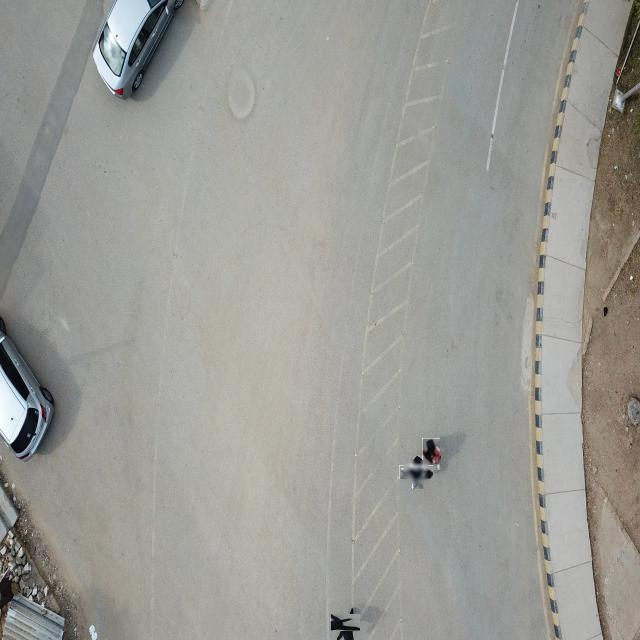Manusia: (422, 438, 441, 471), (404, 460, 429, 485), (334, 611, 358, 636)
